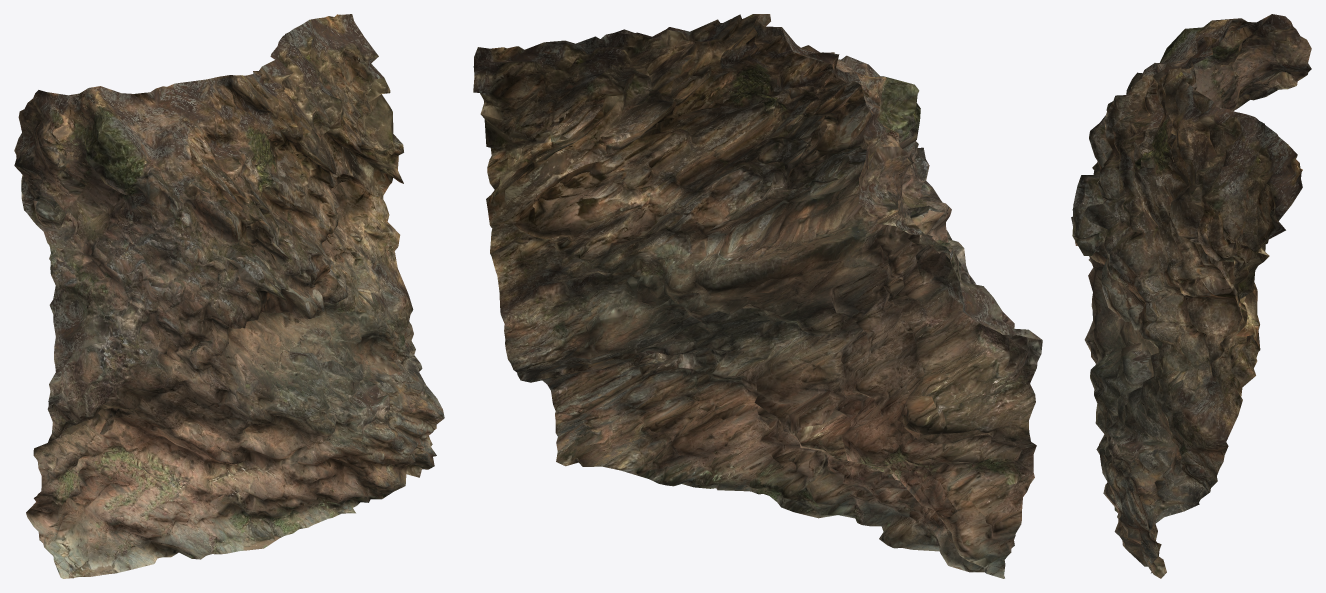
File: mountainside.glb
3 renders of one model, left to right at view 1: azimuth 30°, elevation 25°; view 2: azimuth 150°, elevation 25°; view 3: azimuth 270°, elevation 25°, orthographic. The views are drawn at different scales.
Parts seen in each view (by area): view 1: mountainside_LOD0; view 2: mountainside_LOD0; view 3: mountainside_LOD0.
Part boxes in pixels (bbox=[...]): mountainside_LOD0: bbox=[14, 14, 444, 578]; mountainside_LOD0: bbox=[473, 14, 1042, 578]; mountainside_LOD0: bbox=[1071, 14, 1311, 578].
Size of what is drawn, in the model's own units: 10.2 by 10.51 by 5.23.
Materials: 1 (1 with a texture image).
